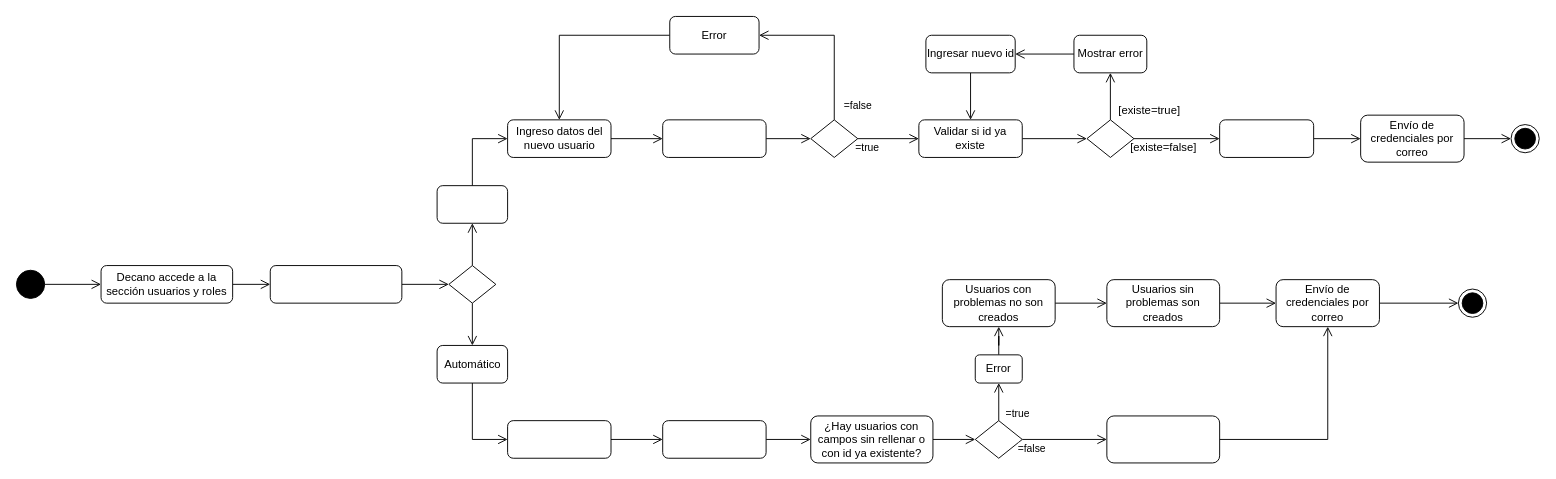
Some shapes in this 1556 by 479 pixel diagram are drawn without their labels. The box of each missing label's shape, as (x1, y1, x2, y2) in pixels:
Abre explorador de archivos: (507, 420, 611, 458)
Crear usuario: (1219, 119, 1314, 157)
Manual: (436, 185, 508, 223)
Selecciona archivo con usuarios: (662, 420, 766, 458)
Usuarios creados: (1106, 415, 1220, 463)
¿Cómo desea crear usuariosr?: (269, 265, 402, 303)
¿Todos los campos completados?: (662, 119, 766, 157)
